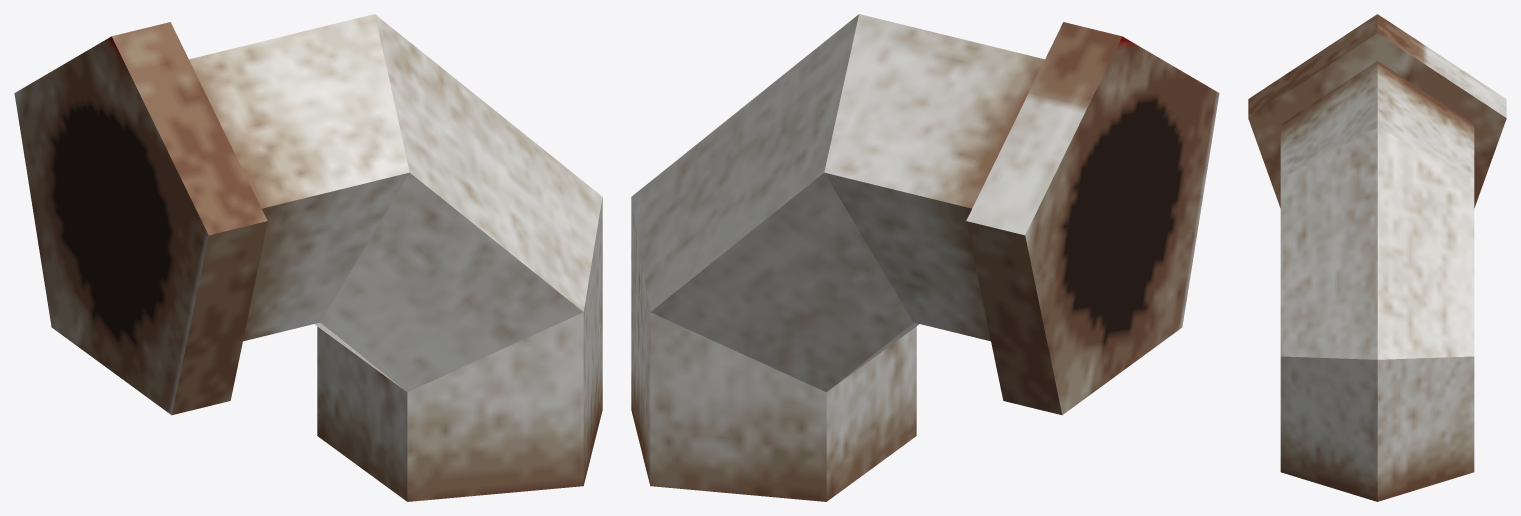
The model's file is Pipe4.obj.
3 views of the same model, side by side, from view 1: azimuth 30°, elevation 25°; view 2: azimuth 150°, elevation 25°; view 3: azimuth 270°, elevation 25° (orthographic). The views are drawn at different scales.
Parts seen in each view (by area): view 1: Pipe_Corner; view 2: Pipe_Corner; view 3: Pipe_Corner.
Boxes of the visible parts, x1=… form: Pipe_Corner: x1=14, y1=14, x2=602, y2=501; Pipe_Corner: x1=631, y1=14, x2=1219, y2=501; Pipe_Corner: x1=1248, y1=14, x2=1506, y2=501.
Size of the model in its own units: 0.4161 by 0.4 by 0.2853.
1 material, 1 textured.
